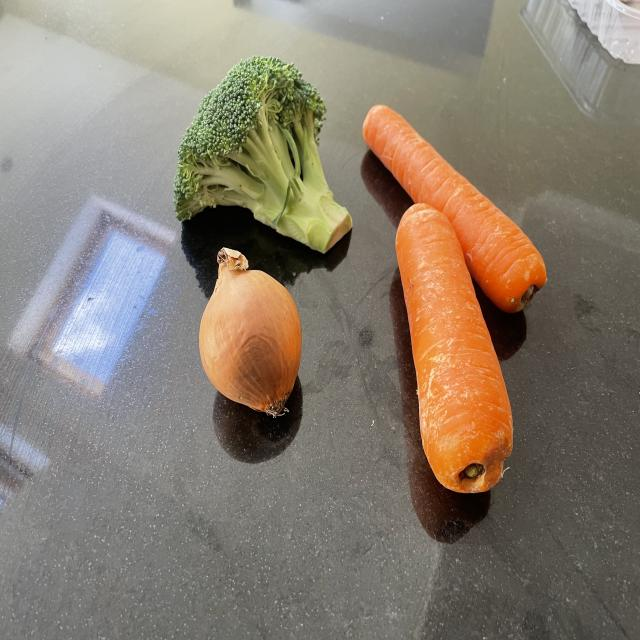Broccoli: (173, 53, 353, 264)
Carrot: (362, 101, 548, 317), (395, 202, 515, 496)
Onion: (198, 246, 312, 420)
